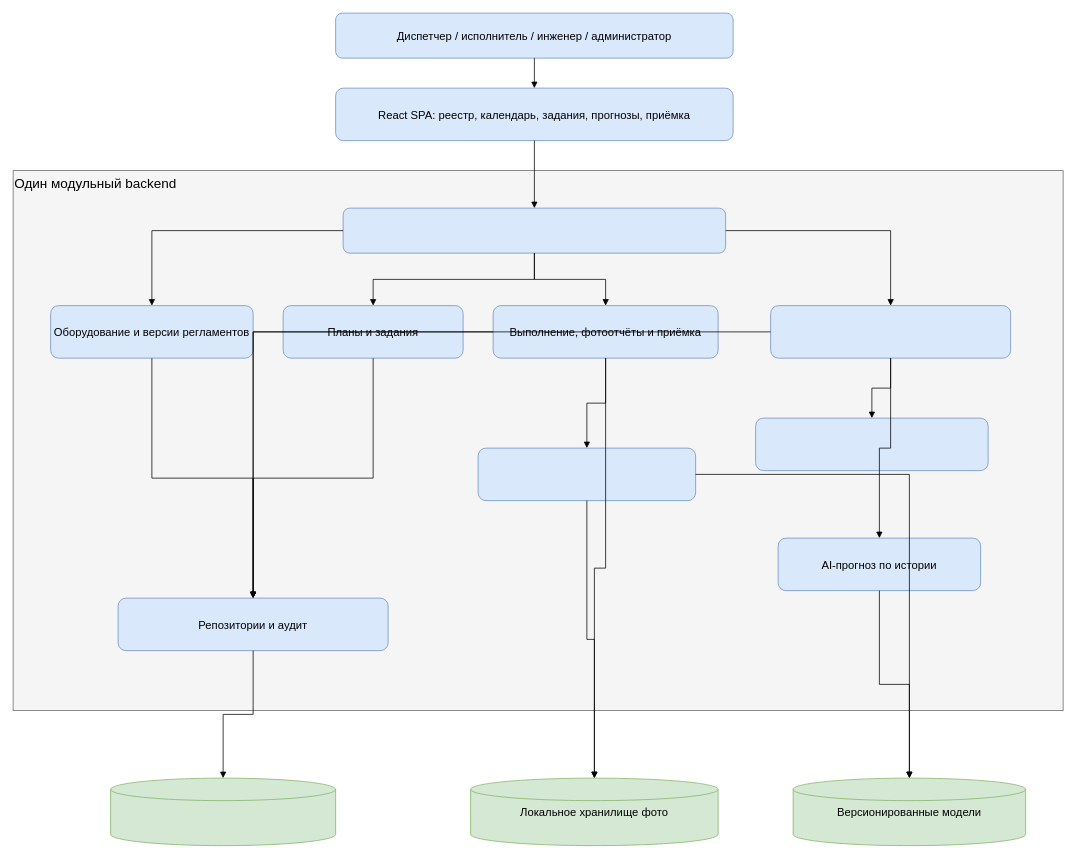
Image size: 1076x859. Some labels were removed from this diagram. Here are the shapes that lost their labels. From the top down, the box of each, then its label:
(342, 207, 726, 253): FastAPI: авторизация, DTO, REST
(770, 305, 1011, 358): Агент-оркестратор: сравнение и ограничения
(755, 417, 988, 471): Алгоритмический прогноз и подбор исполнителей
(477, 447, 696, 501): AI-анализ видимых изменений
(110, 777, 336, 846): PostgreSQL 16
